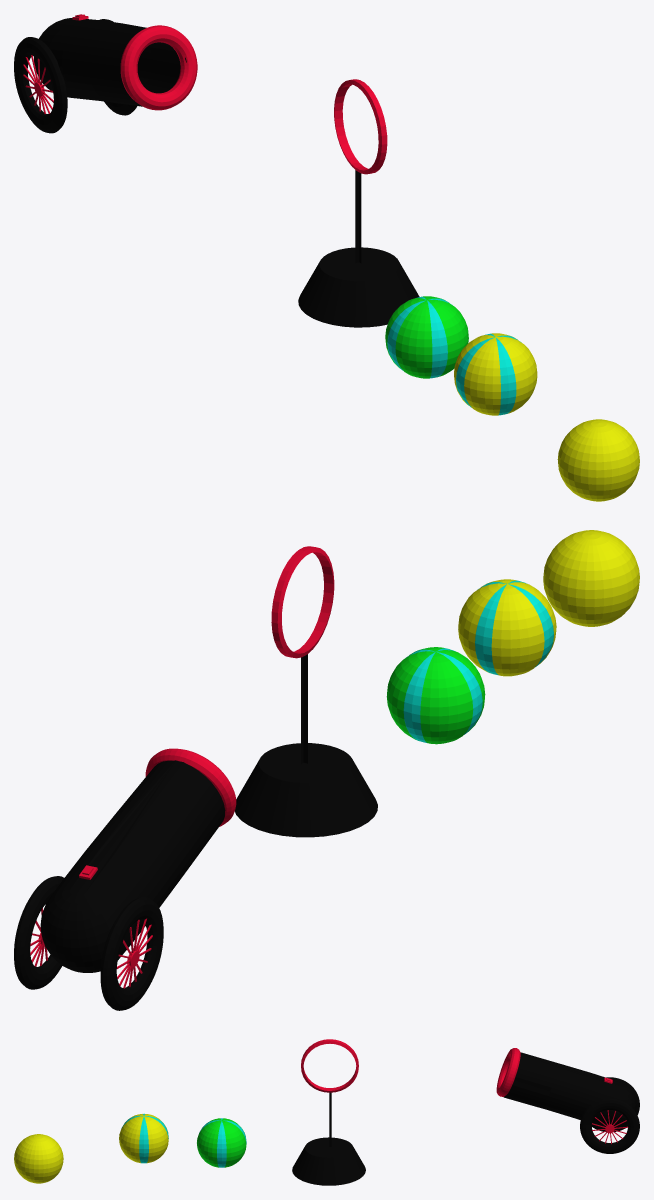
The model's file is circus objects.fbx.
3 views of the same model, one above another, from view 1: azimuth 30°, elevation 25°; view 2: azimuth 150°, elevation 25°; view 3: azimuth 270°, elevation 25° (orthographic). The views are drawn at different scales.
Visible parts, largest first — view 1: Cannon.001, Cylinder.001, Circus ball, Circus ball.004, Circus ball.002; view 2: Cannon.001, Cylinder.001, Circus ball, Circus ball.004, Circus ball.002; view 3: Cannon.001, Cylinder.001, Circus ball, Circus ball.004, Circus ball.002.
Boxes of the visible parts, x1=… form: Cannon.001: x1=14, y1=14, x2=197, y2=133; Cylinder.001: x1=298, y1=79, x2=419, y2=327; Circus ball: x1=454, y1=333, x2=537, y2=415; Circus ball.004: x1=385, y1=296, x2=468, y2=378; Circus ball.002: x1=557, y1=419, x2=639, y2=501; Cannon.001: x1=14, y1=748, x2=236, y2=1010; Cylinder.001: x1=235, y1=546, x2=377, y2=837; Circus ball: x1=458, y1=579, x2=556, y2=676; Circus ball.004: x1=386, y1=647, x2=485, y2=744; Circus ball.002: x1=543, y1=530, x2=639, y2=626; Cannon.001: x1=496, y1=1048, x2=639, y2=1153; Cylinder.001: x1=292, y1=1039, x2=365, y2=1185; Circus ball: x1=119, y1=1113, x2=168, y2=1163; Circus ball.004: x1=197, y1=1118, x2=246, y2=1167; Circus ball.002: x1=14, y1=1134, x2=63, y2=1183.
Bounding box in the file's own units: 812 × 1270 × 5046.
